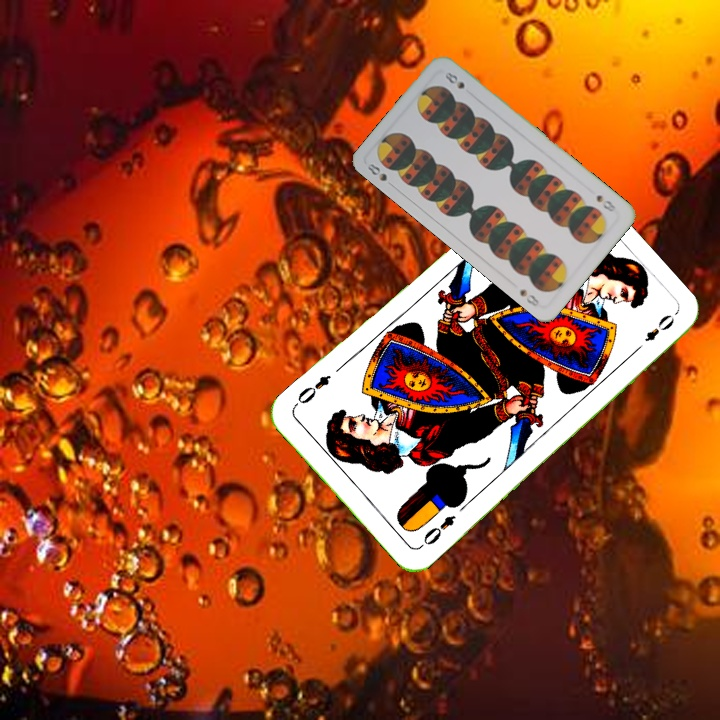EO: (416, 511, 459, 551)
S8: (363, 159, 397, 191), (592, 191, 619, 215)
